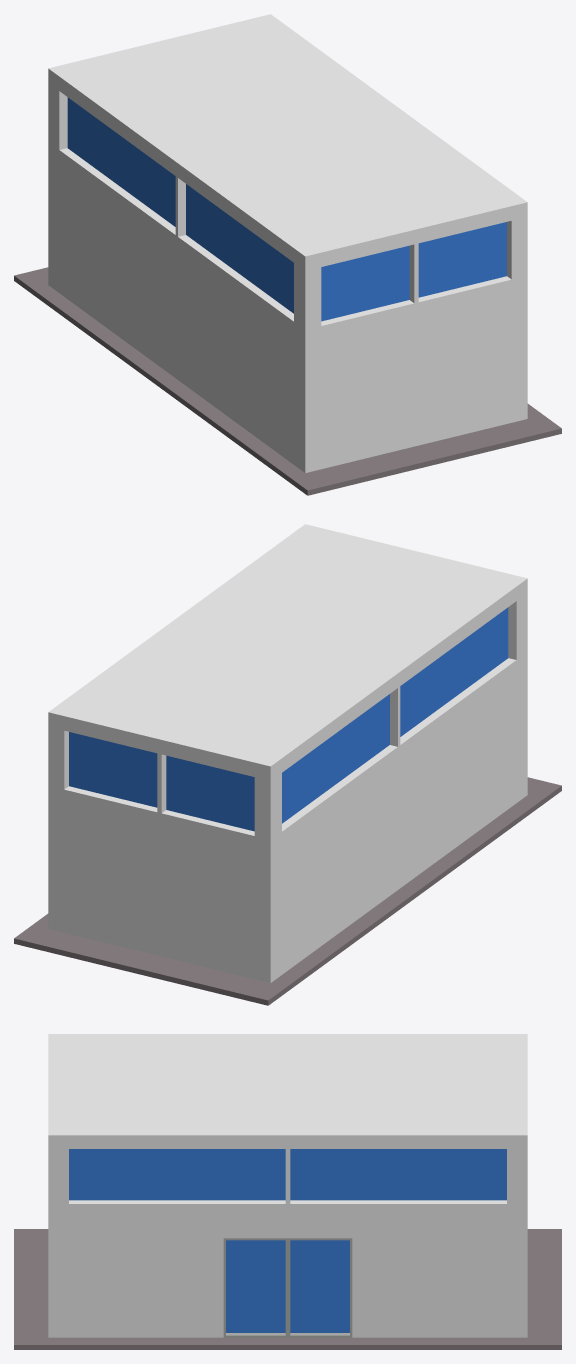
The model's file is building_1x2_6_g.glb.
3 views of the same model, one above another, from view 1: azimuth 30°, elevation 25°; view 2: azimuth 150°, elevation 25°; view 3: azimuth 270°, elevation 25° (orthographic). The views are drawn at different scales.
Parts seen in each view (by area): view 1: FirstFloor; view 2: FirstFloor; view 3: FirstFloor.
Part boxes in pixels (<box>): FirstFloor: <box>14,14,561,495</box>; FirstFloor: <box>14,524,561,1005</box>; FirstFloor: <box>14,1034,561,1349</box>.
Size of the model in its own units: 2 by 1.67 by 4.
